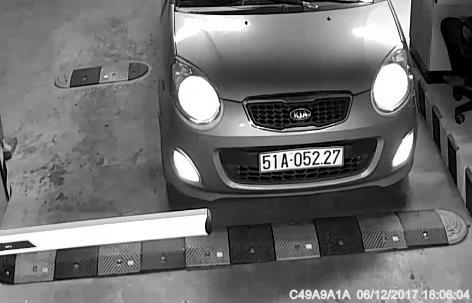License-plate: (253, 140, 354, 178)
